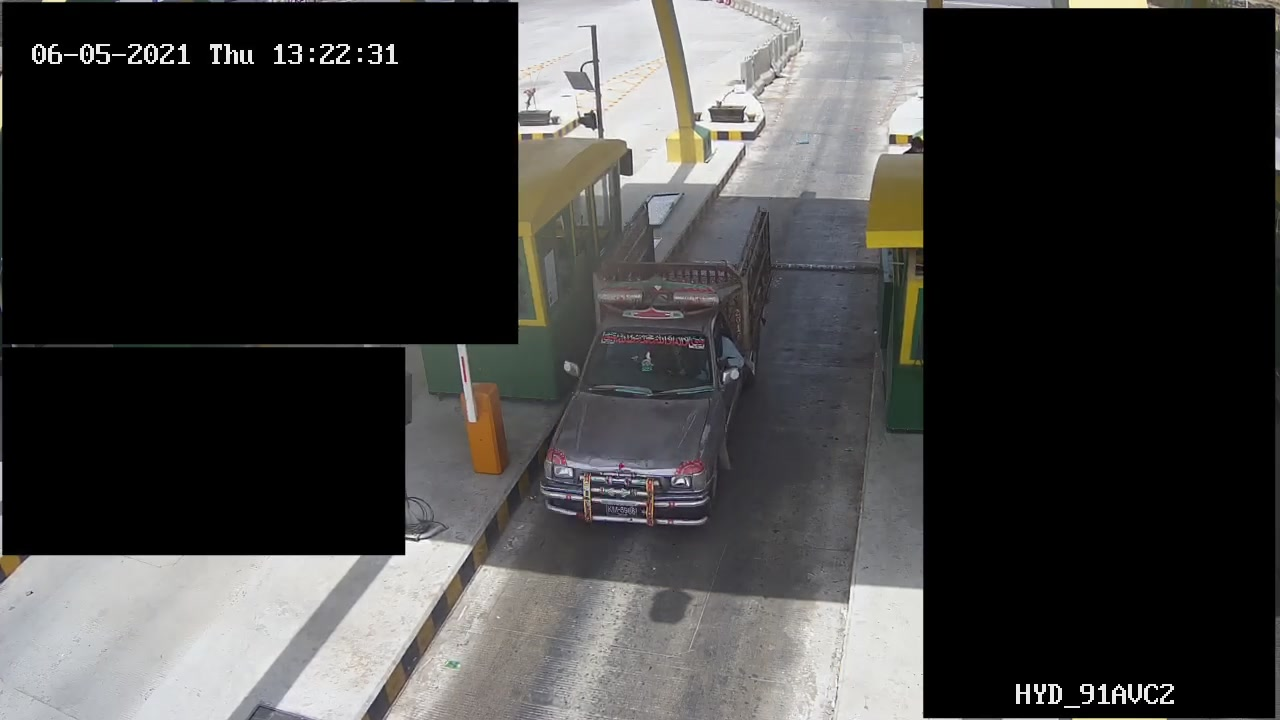F1: (530, 189, 772, 534)
